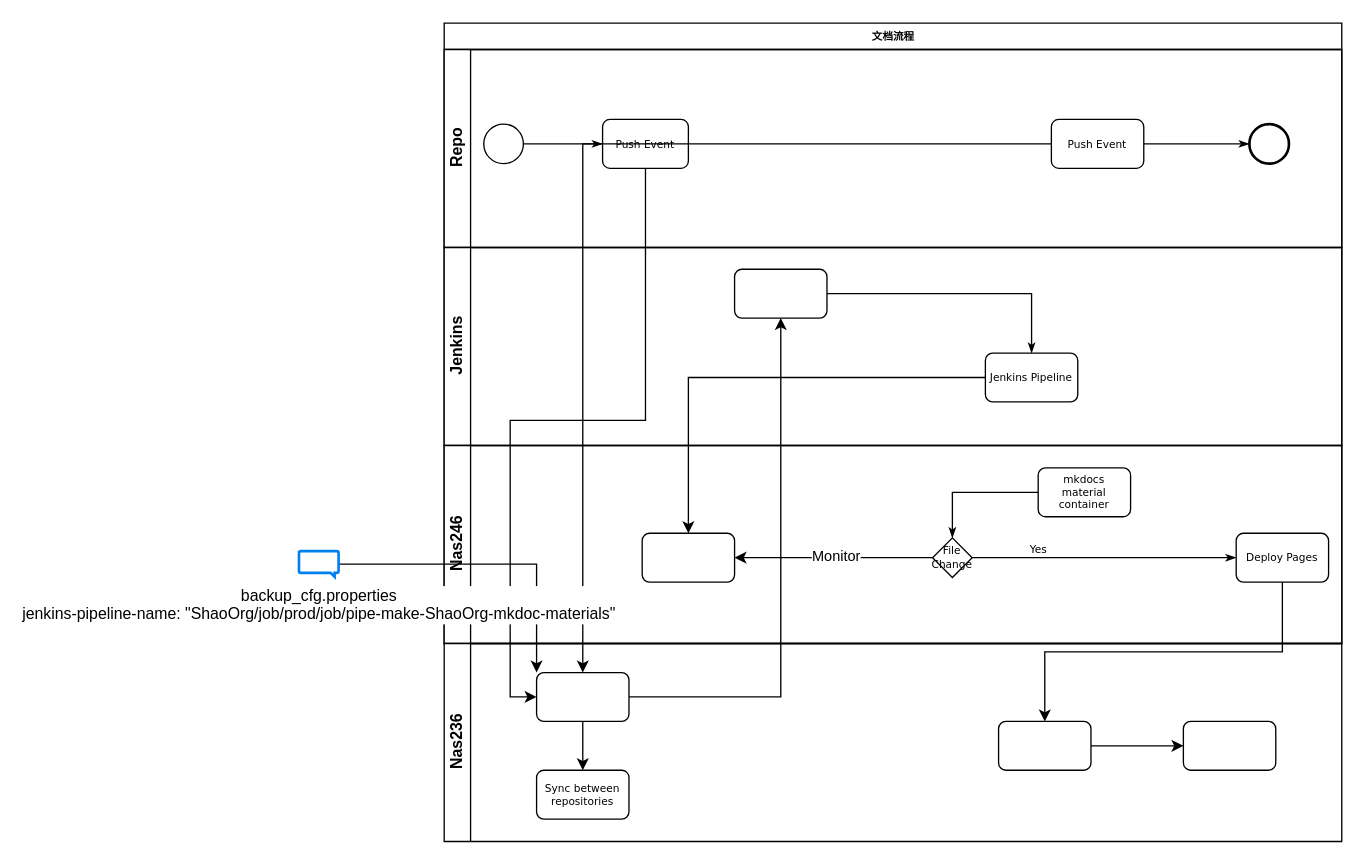
Image size: 1365x865. Some labels were removed from this diagram. The centre of each missing label's shape, as x and y in pixels:
"external network pages" belongs at [1229,745].
"Git Hooks" belongs at [582,696].
"git pull to trigger build" belongs at [688,557].
"Github" belongs at [502,143].
"Gitlab" belongs at [1268,143].
"Jenkins Webhook" belongs at [780,293].
"nginx reverse proxy" belongs at [1044,745].
